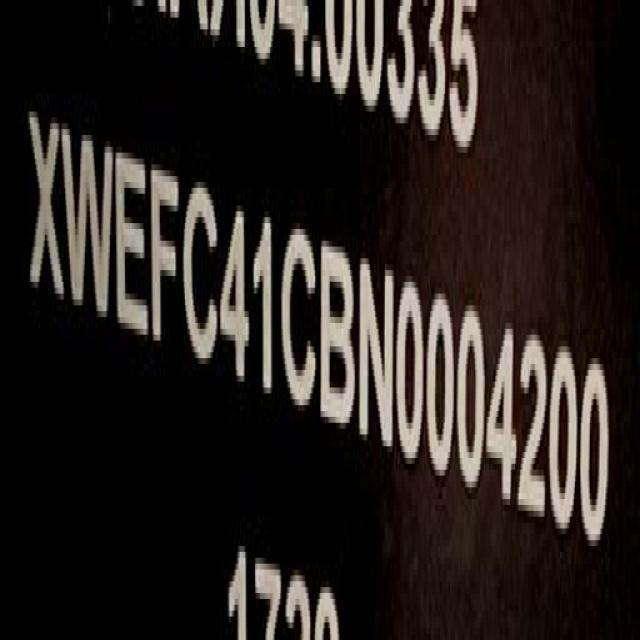0: (424, 287, 456, 479), (548, 343, 580, 532), (580, 356, 610, 544), (457, 306, 486, 496), (395, 274, 424, 463)
1: (253, 208, 277, 406)
2: (518, 311, 546, 520)
4: (220, 205, 250, 402), (485, 320, 517, 504)
B: (318, 231, 356, 448)
C: (280, 222, 317, 417), (182, 185, 218, 370)
E: (112, 137, 150, 350)
F: (151, 163, 179, 357)
N: (360, 250, 394, 463)
W: (62, 120, 116, 337)
X: (27, 109, 67, 315)
